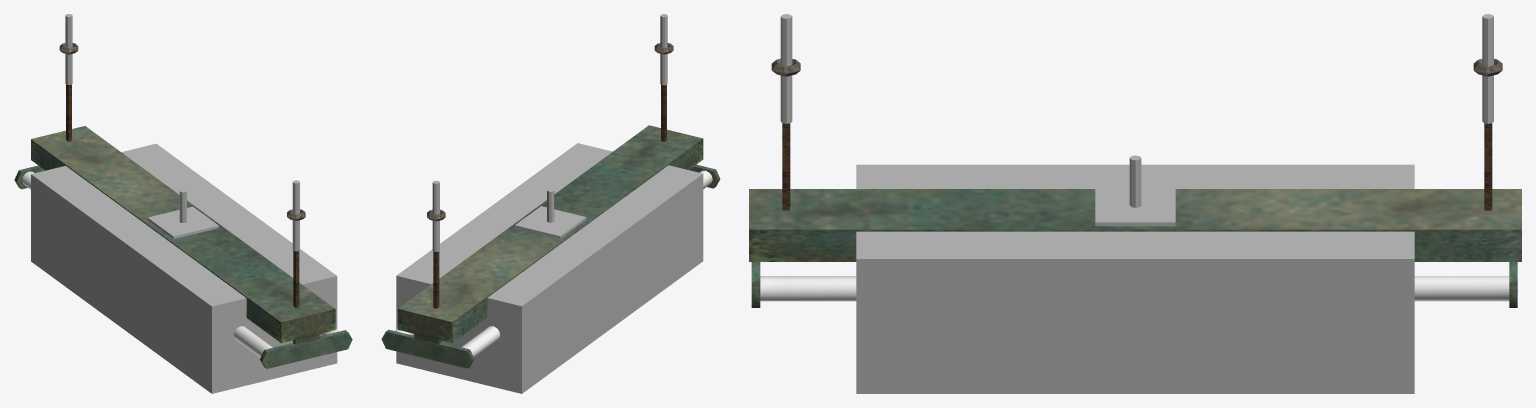
Rendered from light_flourlight01.dae.
The picture shows the model from 3 angles, left to right: view 1: azimuth 30°, elevation 25°; view 2: azimuth 150°, elevation 25°; view 3: azimuth 270°, elevation 25°; orthographic projection. The views are drawn at different scales.
Parts seen in each view (by area): view 1: _bb_bb1_flourlight_halo01, light1, _sound_light1s_light_buzz_med_loop, light2, _joint_ball_light1_mounts_60_60_nocollide_joint1, _joint_ball_light1_mounts_60_60_nocollide_joint2, mounts; view 2: _bb_bb1_flourlight_halo01, light1, _sound_light1s_light_buzz_med_loop, light2, _joint_ball_light1_mounts_60_60_nocollide_joint1, _joint_ball_light1_mounts_60_60_nocollide_joint2, mounts; view 3: _bb_bb1_flourlight_halo01, light1, light2, _sound_light1s_light_buzz_med_loop, _joint_ball_light1_mounts_60_60_nocollide_joint1, _joint_ball_light1_mounts_60_60_nocollide_joint2, mounts, _joint_slider_light1_light2_1_0_nocollide_joint3.
Part boxes in pixels (left/top/right/bottom): _bb_bb1_flourlight_halo01: left=31, top=143, right=337, bottom=393; light1: left=14, top=84, right=352, bottom=368; _sound_light1s_light_buzz_med_loop: left=147, top=206, right=218, bottom=238; light2: left=22, top=171, right=339, bottom=357; _joint_ball_light1_mounts_60_60_nocollide_joint1: left=292, top=180, right=299, bottom=251; _joint_ball_light1_mounts_60_60_nocollide_joint2: left=65, top=14, right=72, bottom=84; mounts: left=59, top=43, right=305, bottom=220; _bb_bb1_flourlight_halo01: left=396, top=143, right=703, bottom=393; light1: left=381, top=84, right=720, bottom=368; _sound_light1s_light_buzz_med_loop: left=515, top=206, right=586, bottom=238; light2: left=395, top=170, right=712, bottom=356; _joint_ball_light1_mounts_60_60_nocollide_joint1: left=660, top=14, right=667, bottom=85; _joint_ball_light1_mounts_60_60_nocollide_joint2: left=432, top=180, right=439, bottom=251; mounts: left=427, top=43, right=673, bottom=221; _bb_bb1_flourlight_halo01: left=856, top=164, right=1414, bottom=393; light1: left=749, top=123, right=1521, bottom=307; light2: left=760, top=276, right=1509, bottom=301; _sound_light1s_light_buzz_med_loop: left=1095, top=188, right=1175, bottom=226; _joint_ball_light1_mounts_60_60_nocollide_joint1: left=780, top=14, right=792, bottom=123; _joint_ball_light1_mounts_60_60_nocollide_joint2: left=1482, top=14, right=1493, bottom=123; mounts: left=771, top=58, right=1502, bottom=76; _joint_slider_light1_light2_1_0_nocollide_joint3: left=1129, top=155, right=1141, bottom=207.
Size of what is drawn, in the model's own units: 0.2512 by 0.4092 by 0.8695.
